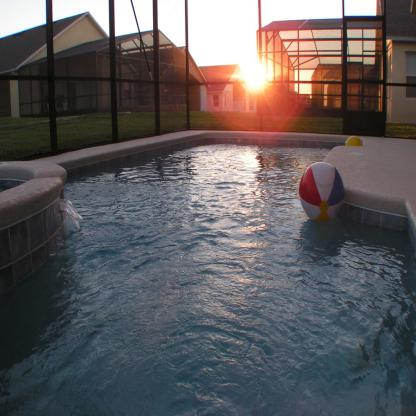Ball: (299, 162, 345, 225), (344, 135, 364, 147)
